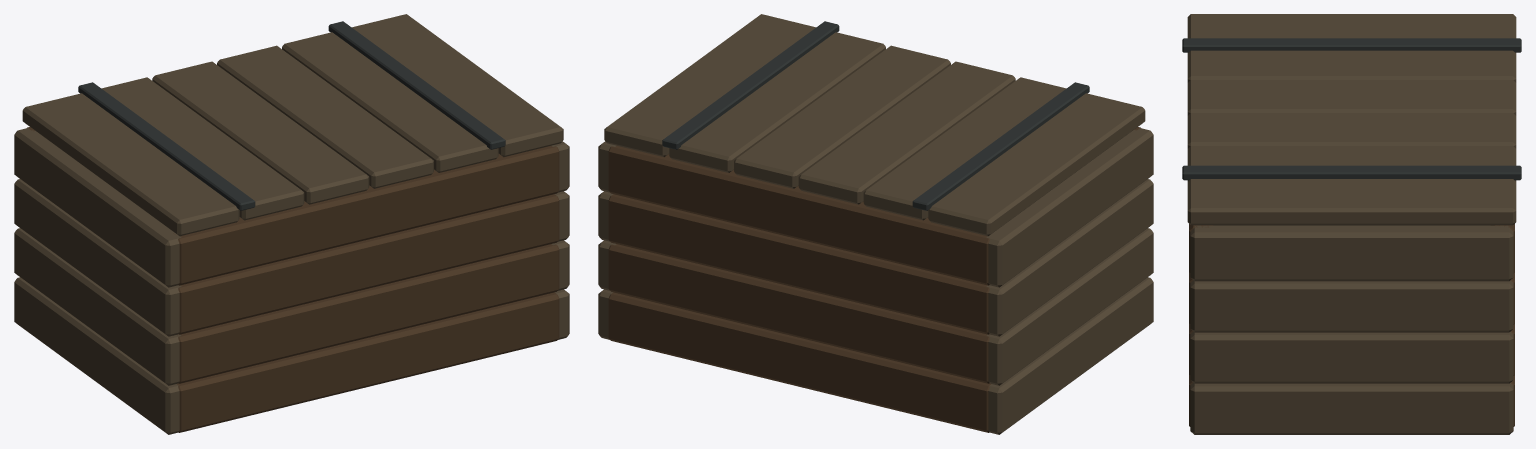
File: supply-crate.glb
3 renders of one model, left to right at view 1: azimuth 30°, elevation 25°; view 2: azimuth 150°, elevation 25°; view 3: azimuth 270°, elevation 25°, orthographic. The views are drawn at different scales.
Parts seen in each view (by area): view 1: Wood, Iron; view 2: Wood, Iron; view 3: Wood, Iron.
Boxes of the visible parts, box(x1,y1,x2,y2) form: Wood: box(14, 14, 569, 434); Iron: box(78, 21, 505, 210); Wood: box(598, 14, 1153, 434); Iron: box(662, 21, 1089, 210); Wood: box(1187, 14, 1516, 434); Iron: box(1182, 38, 1521, 180).
Size of the model in its own units: 0.905 by 0.468 by 0.63.
